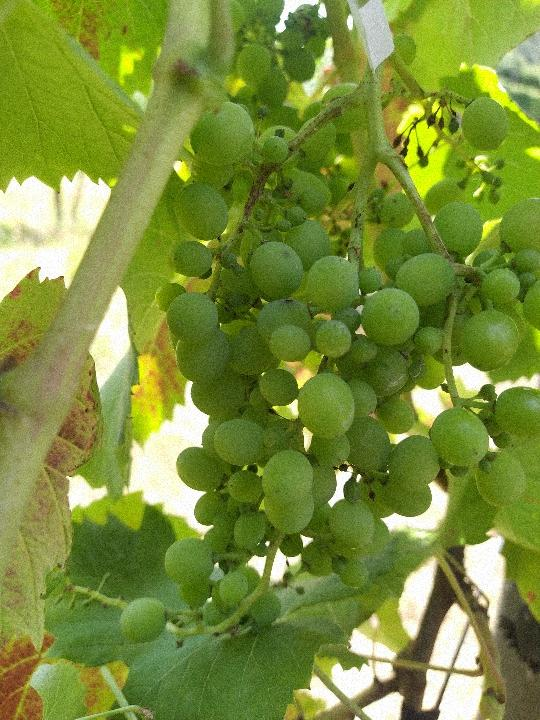grape: (115, 82, 536, 649)
